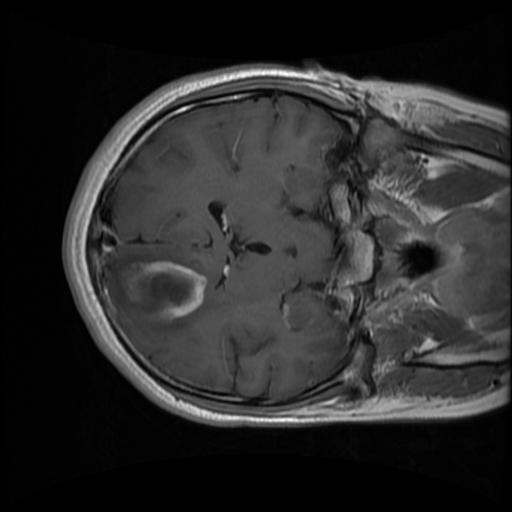glioma: (104, 250, 208, 325)
